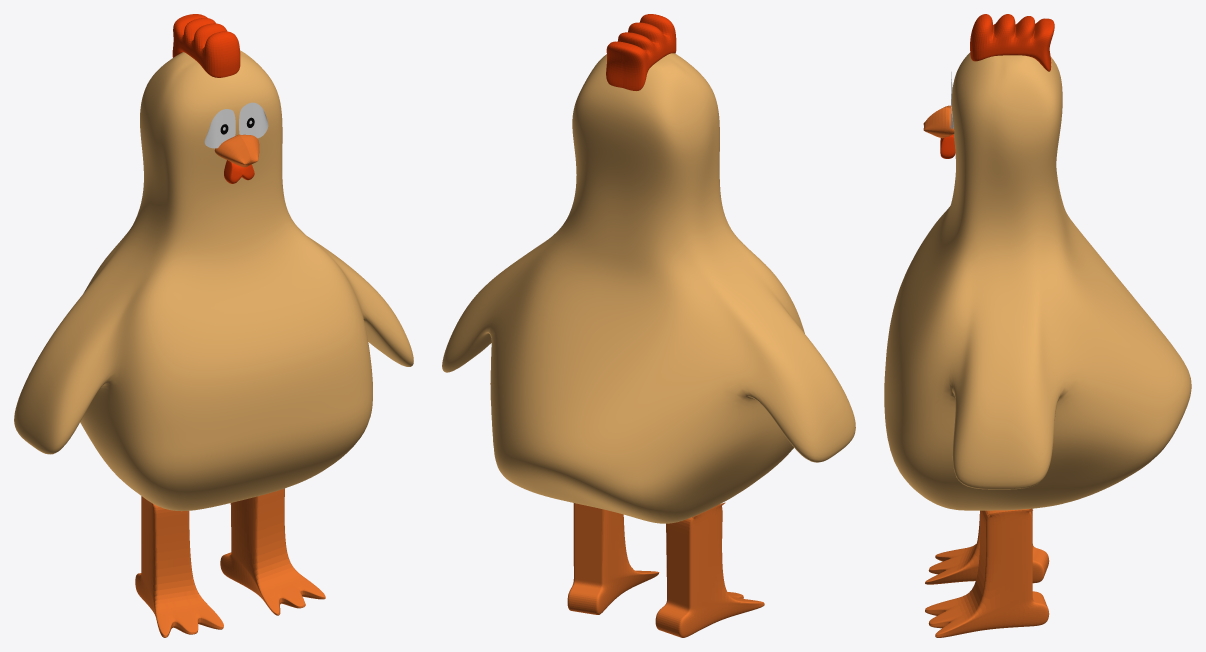
Rendered from TuppTest.fbx.
3 views of the same model, side by side, from view 1: azimuth 30°, elevation 25°; view 2: azimuth 150°, elevation 25°; view 3: azimuth 270°, elevation 25° (orthographic). The views are drawn at different scales.
Visible parts, largest first — view 1: Body; view 2: Body; view 3: Body.
Part boxes in pixels (x1,y1,x2,y2): Body: (14,14,413,637); Body: (442,14,855,637); Body: (884,14,1191,637).
Size of the model in its own units: 526 by 777 by 372.
